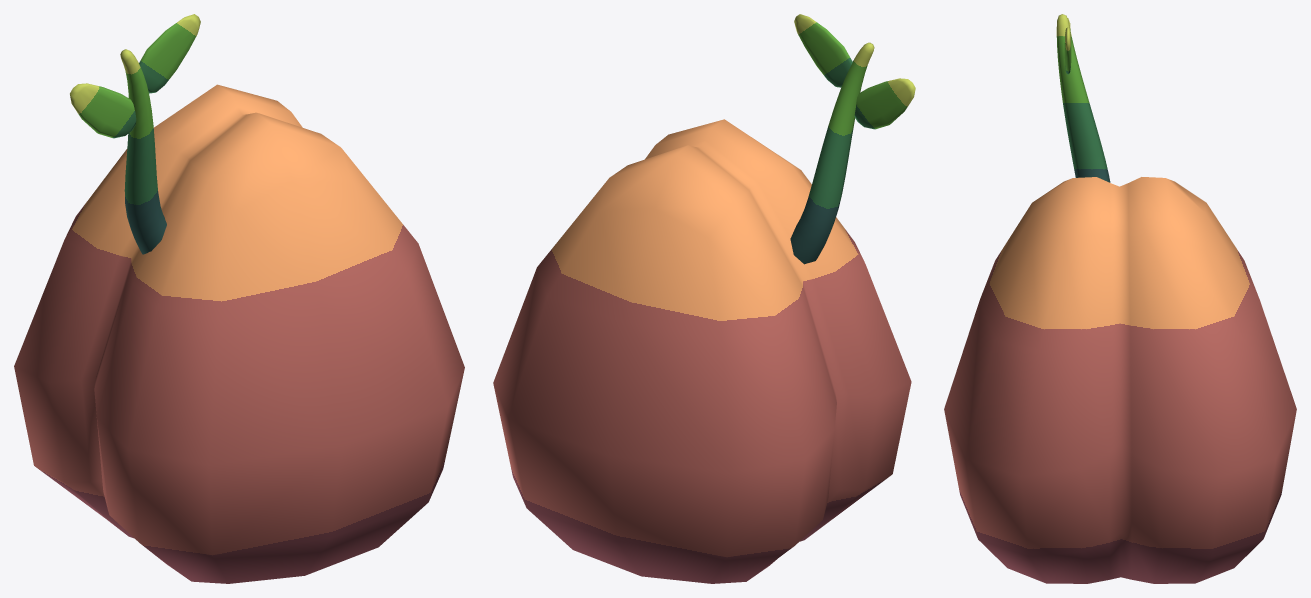
File: Semilla_Spell.fbx
The picture shows the model from 3 angles, left to right: view 1: azimuth 30°, elevation 25°; view 2: azimuth 150°, elevation 25°; view 3: azimuth 270°, elevation 25°; orthographic projection. The views are drawn at different scales.
Visible parts, largest first — view 1: Cube.004; view 2: Cube.004; view 3: Cube.004.
Part boxes in pixels (x1,y1,x2,y2): Cube.004: [14, 14, 464, 583]; Cube.004: [493, 14, 915, 583]; Cube.004: [944, 14, 1296, 583].
Bounding box in the file's own units: 206 × 309 × 197.
1 material, 1 textured.
